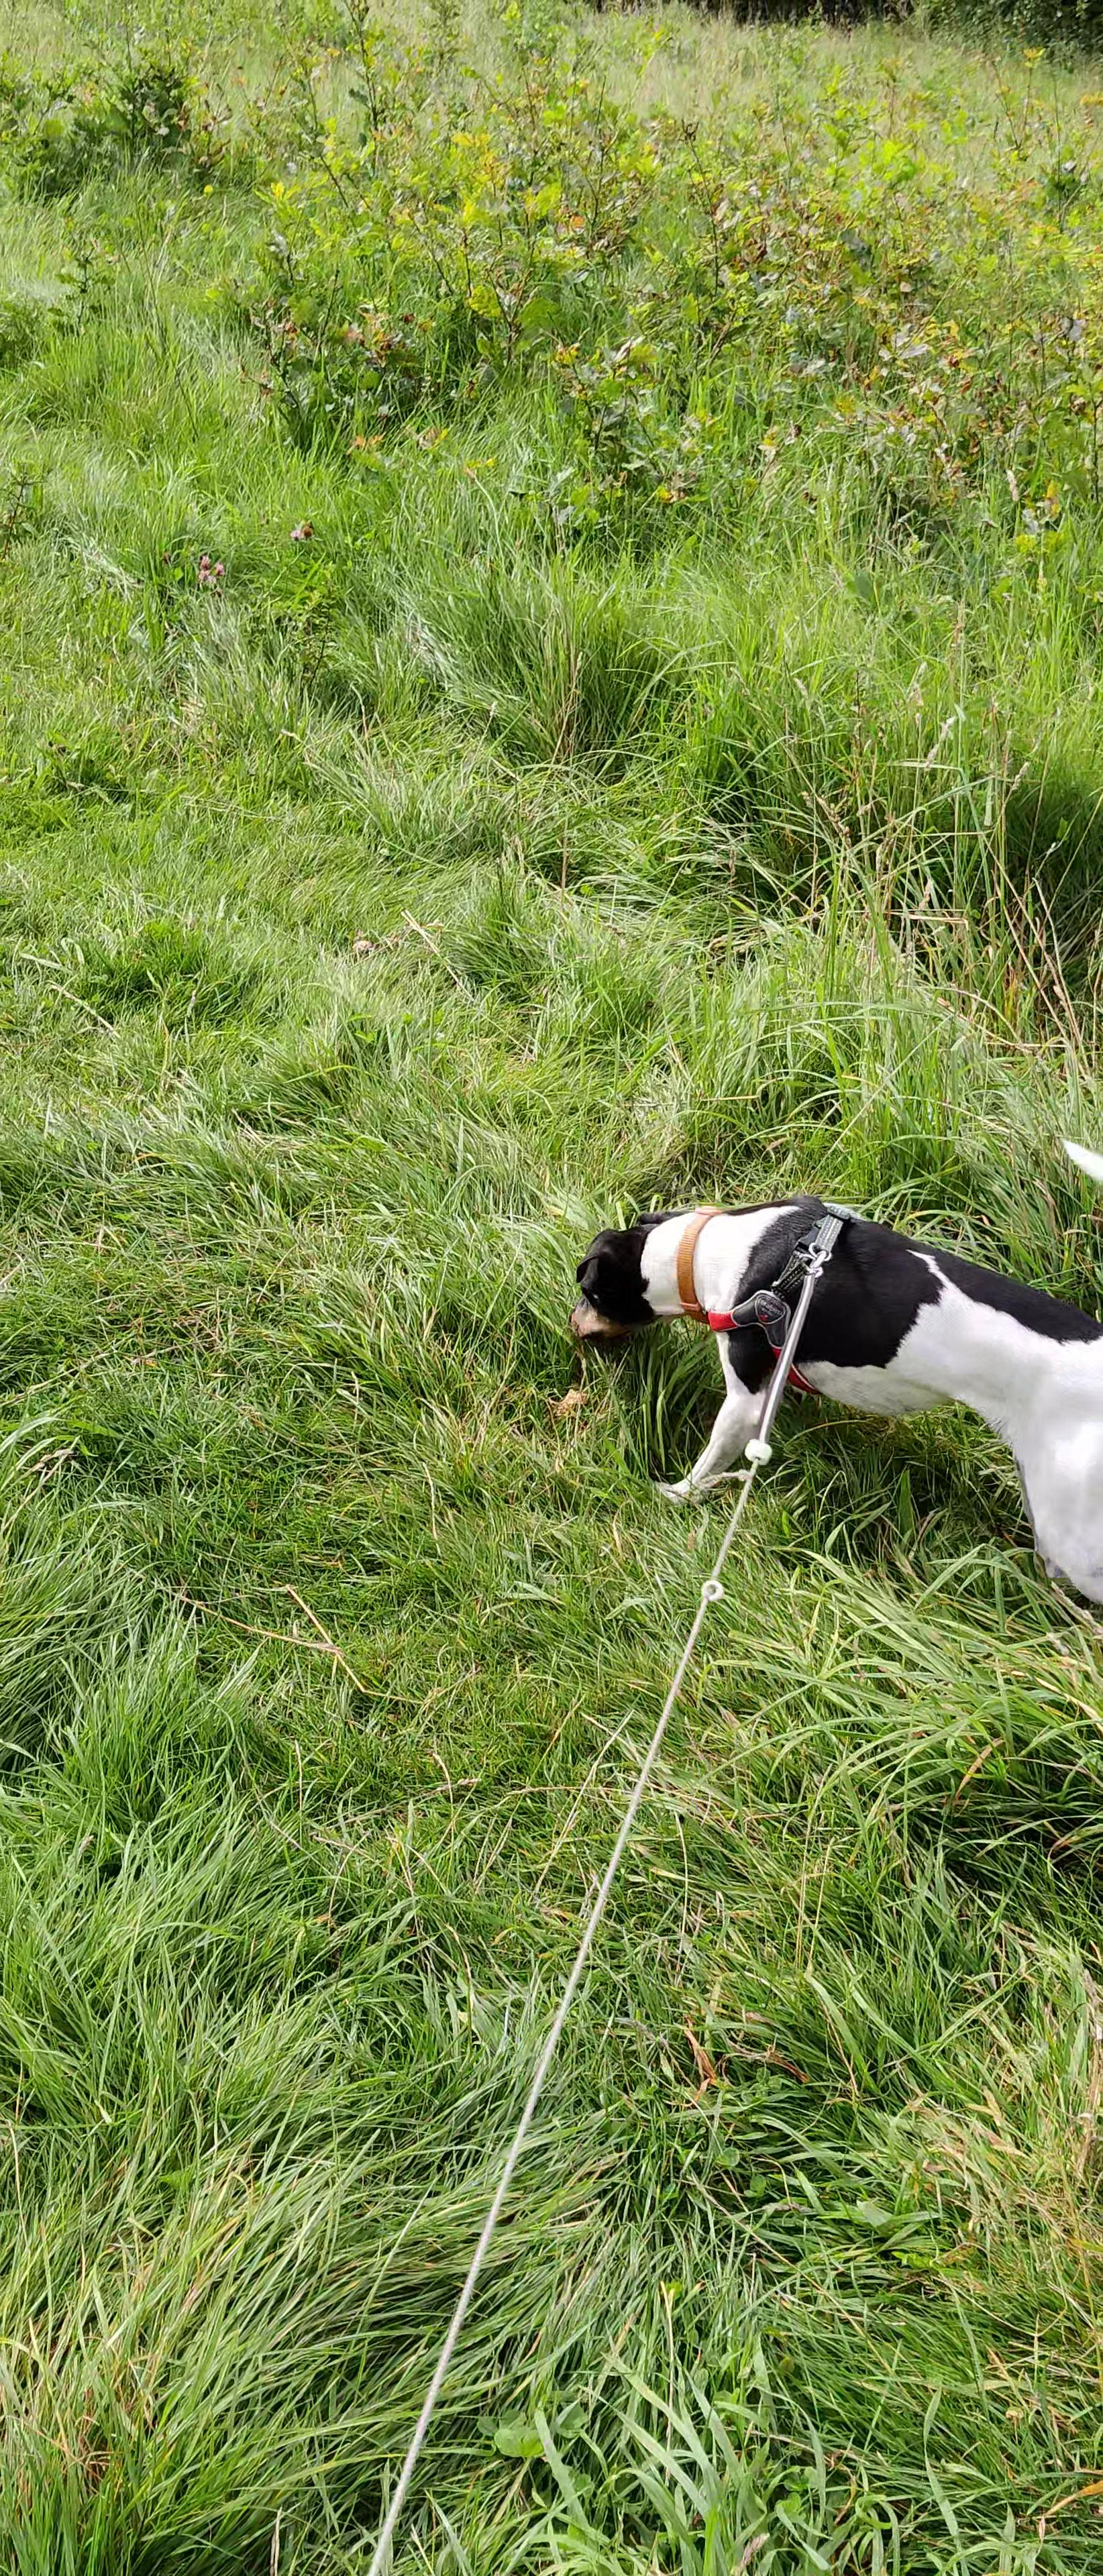Dog: (551, 1068, 1103, 1648)
